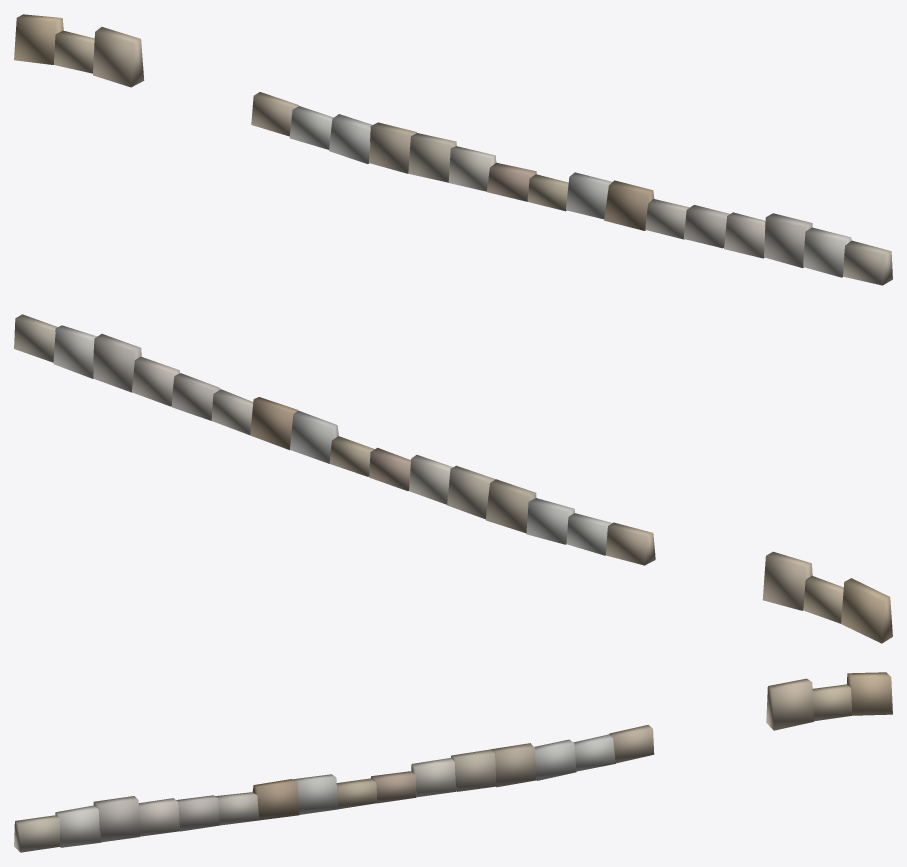
Rendered from farm_-1_12_far.glb.
3 views of the same model, one above another, from view 1: azimuth 30°, elevation 25°; view 2: azimuth 210°, elevation 25°; view 3: azimuth 270°, elevation 25° (orthographic). The views are drawn at different scales.
Parts seen in each view (by area): view 1: geometry_0; view 2: geometry_0; view 3: geometry_0.
Part boxes in pixels (x1,y1,x2,y2): geometry_0: (14,14,892,285); geometry_0: (14,314,892,643); geometry_0: (14,672,892,852).
Bounding box in the file's own units: 15.07 × 2.44 × 31.86.
